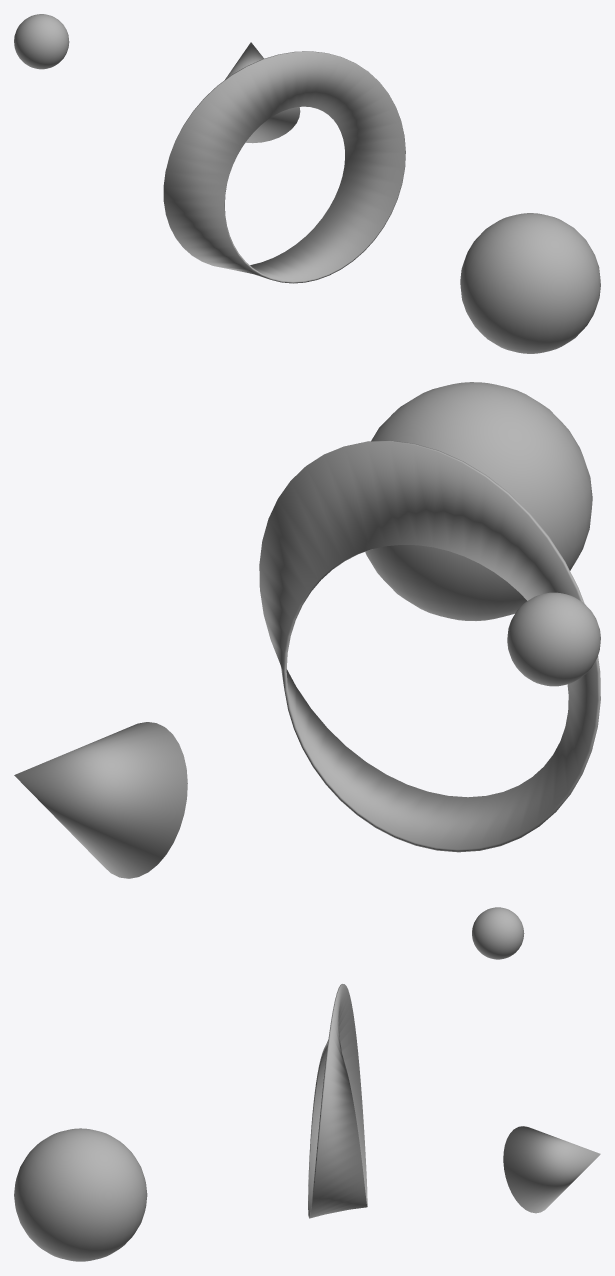
Rendered from mobius.glb.
3 renders of one model, top to bottom at view 1: azimuth 30°, elevation 25°; view 2: azimuth 150°, elevation 25°; view 3: azimuth 270°, elevation 25°, orthographic. The views are drawn at different scales.
Visible parts, largest first — view 1: Mesh, Sphere; view 2: Mesh, Sphere; view 3: Sphere, Mesh.
Part boxes in pixels (left/top/right/bottom): Mesh: left=163, top=51, right=405, bottom=283; Sphere: left=14, top=14, right=600, bottom=353; Mesh: left=259, top=440, right=600, bottom=852; Sphere: left=14, top=382, right=600, bottom=878; Sphere: left=14, top=907, right=600, bottom=1261; Mesh: left=308, top=984, right=367, bottom=1218.
Bounding box in the file's own units: 141 × 89.75 × 215.
2 materials, 2 textured.
